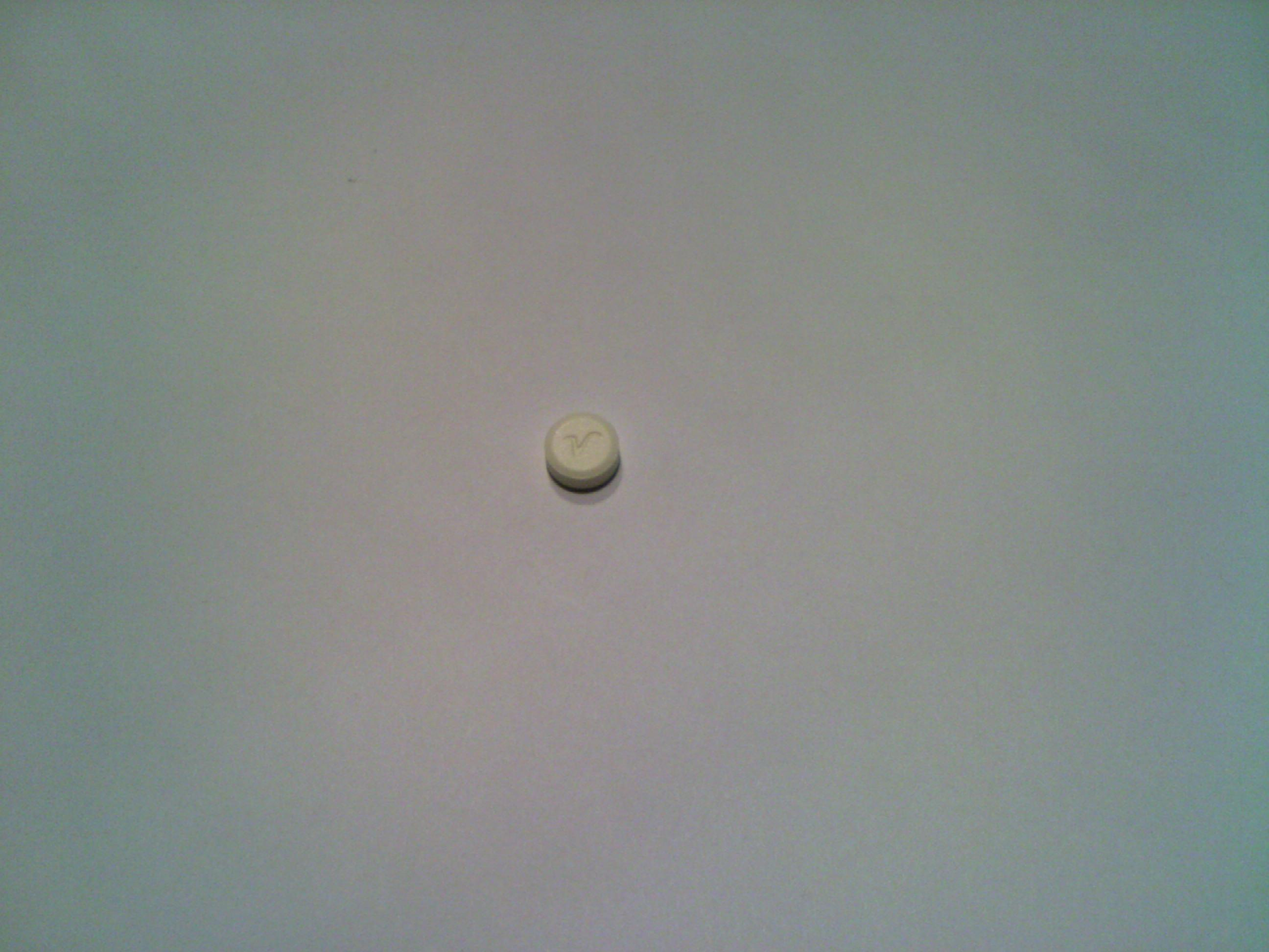Pill: (539, 406, 625, 495)
